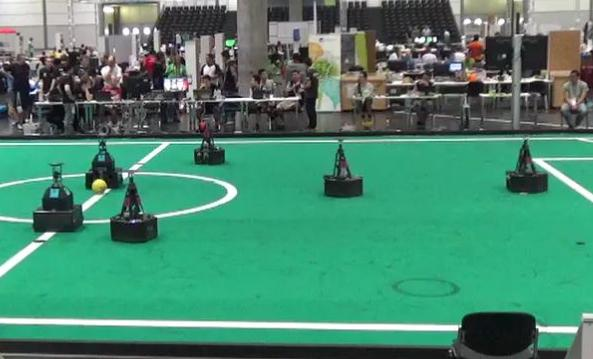robot: (30, 160, 86, 232), (107, 170, 159, 243), (318, 133, 365, 200), (504, 134, 552, 195), (79, 133, 124, 192), (190, 117, 228, 168)
